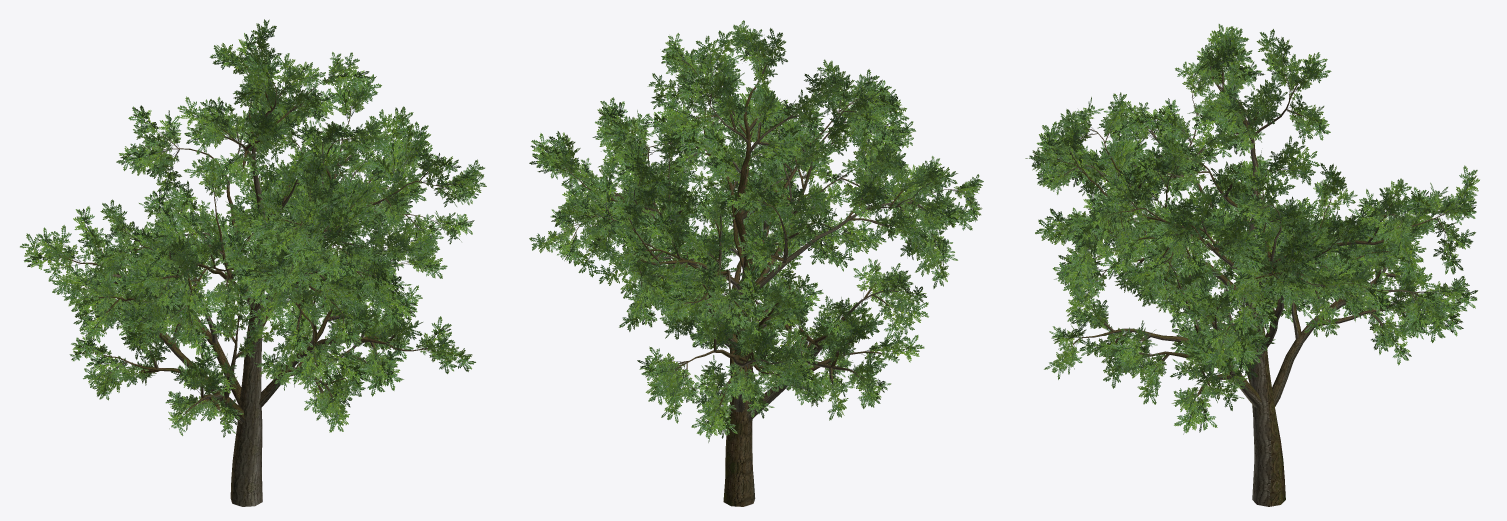
File: apple.glb
3 views of the same model, side by side, from view 1: azimuth 30°, elevation 25°; view 2: azimuth 150°, elevation 25°; view 3: azimuth 270°, elevation 25° (orthographic). The views are drawn at different scales.
Bounding box in the file's own units: 79.17 × 95.97 × 85.15.
Materials: 2 (2 with a texture image).
